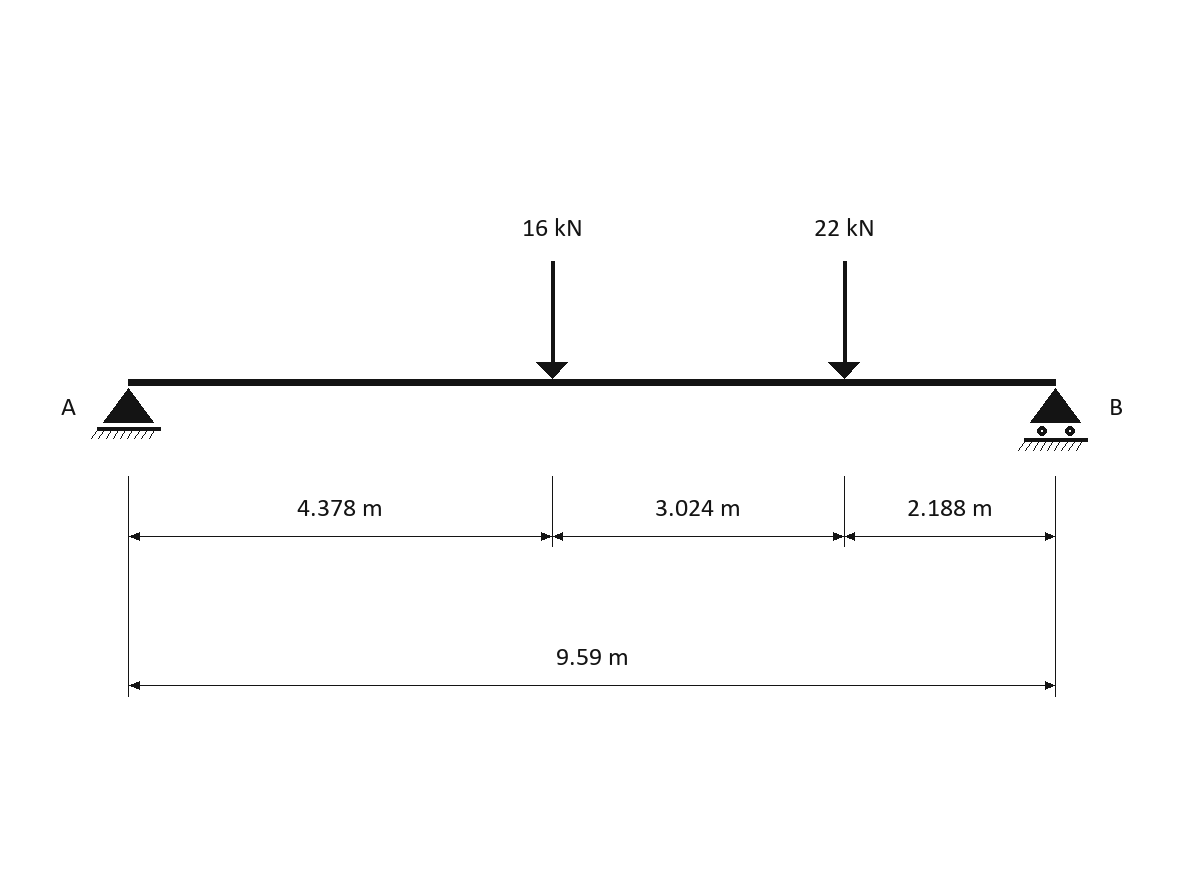pin_support: (91, 388, 161, 439)
point_load: (536, 261, 568, 379), (828, 261, 860, 379)
roller_support: (1018, 388, 1088, 451)
